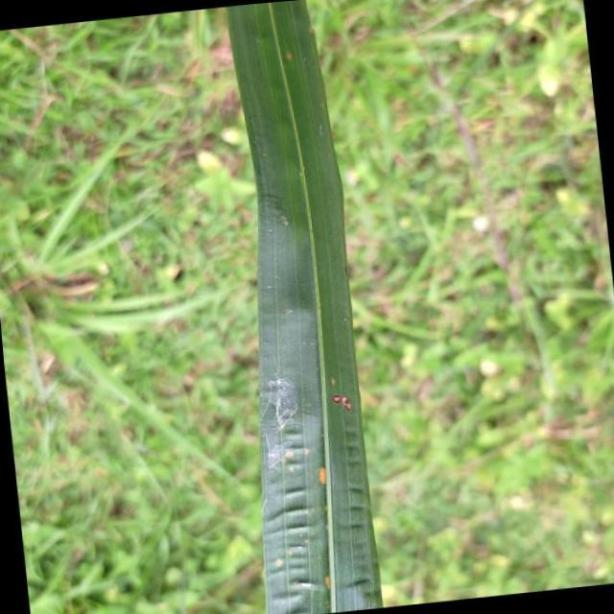Boron: (226, 0, 385, 614)
